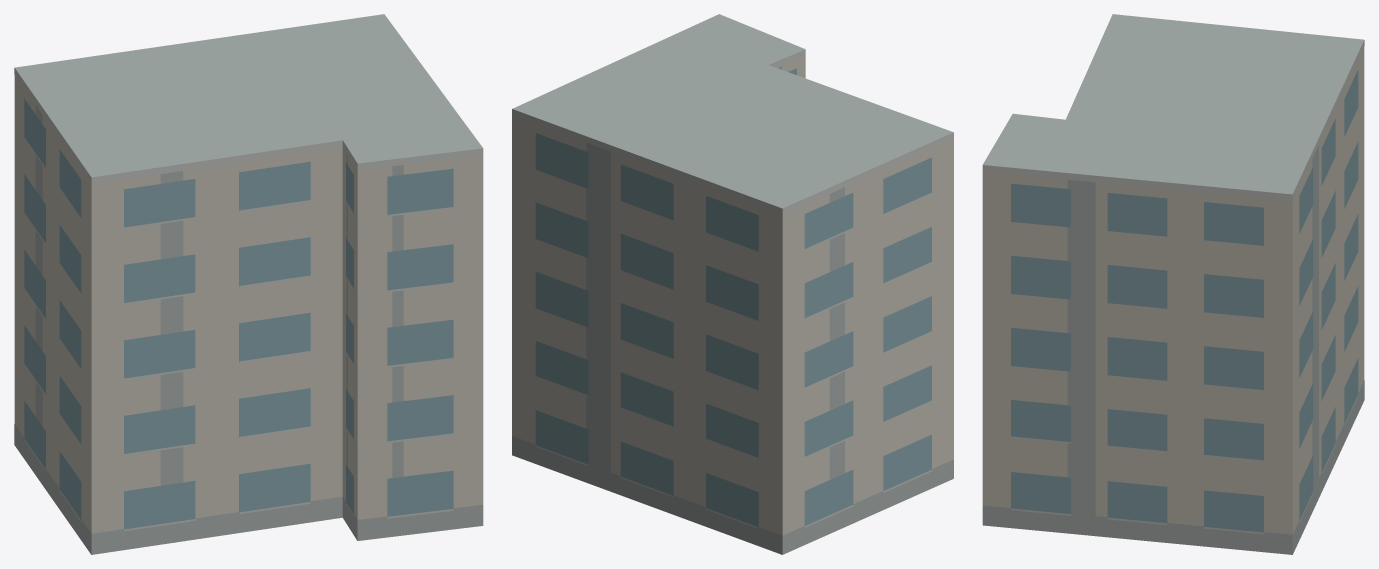
File: survey-upis-32894236.glb
3 renders of one model, left to right at view 1: azimuth 30°, elevation 25°; view 2: azimuth 150°, elevation 25°; view 3: azimuth 270°, elevation 25°, orthographic. The views are drawn at different scales.
Visible parts, largest first — view 1: survey-upis-32894236.tmp; view 2: survey-upis-32894236.tmp; view 3: survey-upis-32894236.tmp.
Boxes of the visible parts, x1,y1,x2,y2 form: survey-upis-32894236.tmp: (14, 14, 483, 554); survey-upis-32894236.tmp: (512, 14, 953, 554); survey-upis-32894236.tmp: (982, 14, 1364, 554).
Bounding box in the file's own units: 14.18 × 13.2 × 12.69.
